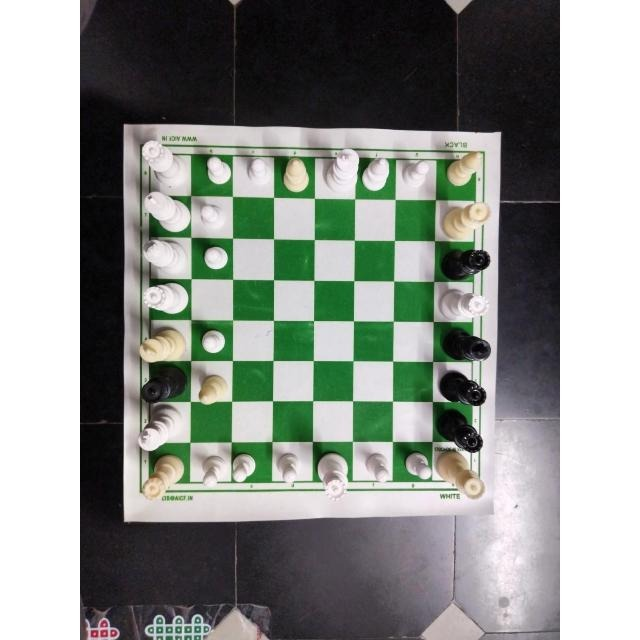black-king: (437, 326, 494, 370)
black-queen: (440, 411, 488, 456), (436, 368, 486, 409), (437, 245, 492, 281), (142, 363, 187, 407)
white-bishop: (188, 363, 228, 409), (446, 150, 488, 186), (281, 155, 317, 196), (362, 154, 394, 193)
white-king: (141, 192, 195, 232), (136, 410, 188, 447), (321, 150, 364, 194), (138, 240, 187, 275), (138, 323, 185, 359)
white-pawn: (229, 441, 266, 491), (393, 153, 433, 195), (278, 447, 312, 495), (203, 151, 235, 195), (405, 442, 435, 487), (361, 446, 395, 485), (194, 325, 235, 357), (243, 156, 273, 196), (199, 453, 227, 495), (206, 242, 234, 278), (200, 193, 224, 229)
white-queen: (138, 138, 192, 191), (437, 453, 488, 507), (312, 451, 350, 505), (140, 459, 187, 500), (434, 286, 488, 321), (139, 282, 191, 318), (440, 203, 494, 237)
